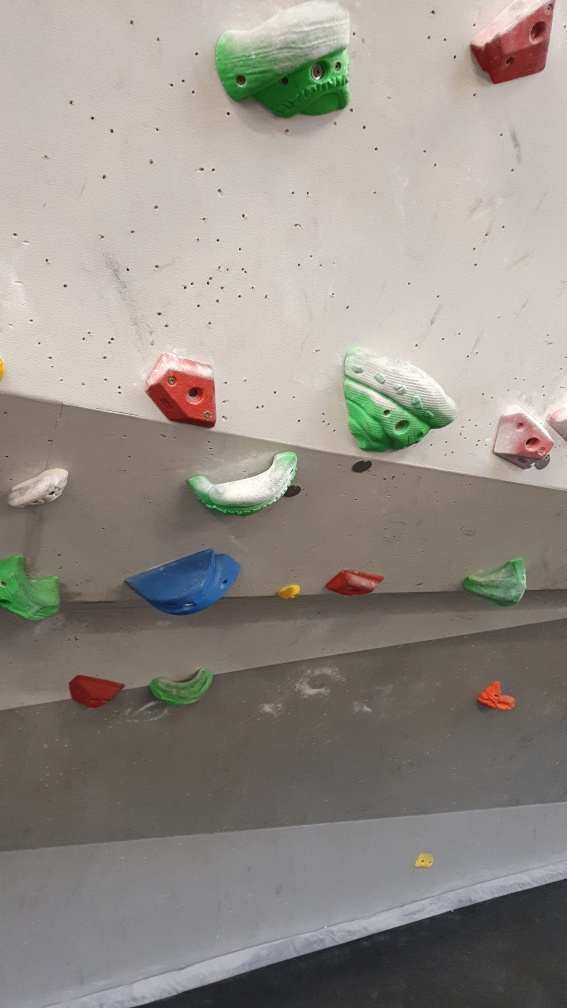Crimp: (466, 1, 563, 92), (146, 349, 221, 429), (488, 405, 561, 468), (323, 560, 388, 598)
Hand Start: (531, 446, 556, 475), (346, 452, 373, 477), (277, 478, 305, 501)
Jug: (208, 1, 360, 128), (341, 349, 458, 456), (184, 439, 304, 522), (1, 553, 70, 628), (455, 549, 534, 606), (8, 464, 73, 517), (146, 662, 215, 709)
Pinch: (121, 544, 245, 615)
